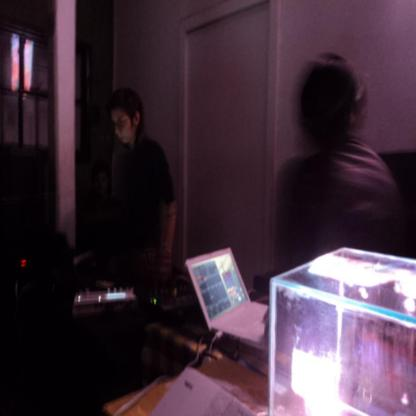board: (186, 235, 273, 353)
